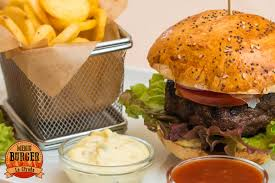hamburger: (146, 9, 275, 164)
